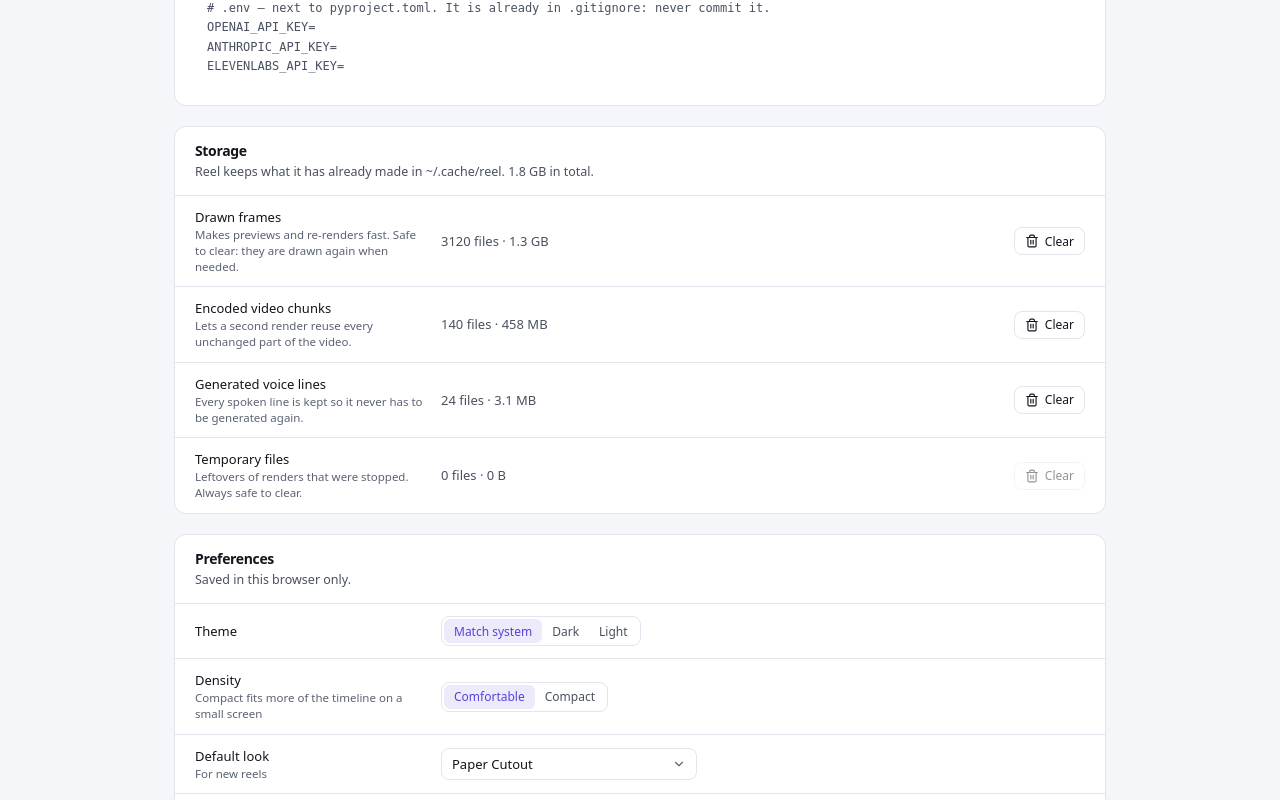
Test case: Health & settings › warns that clearing generated voice lines re-bills an online voice
(page scrolled)
Click the button with aria-label "clear generated voice lines" at (1049, 400), box [1014,386,1085,414]
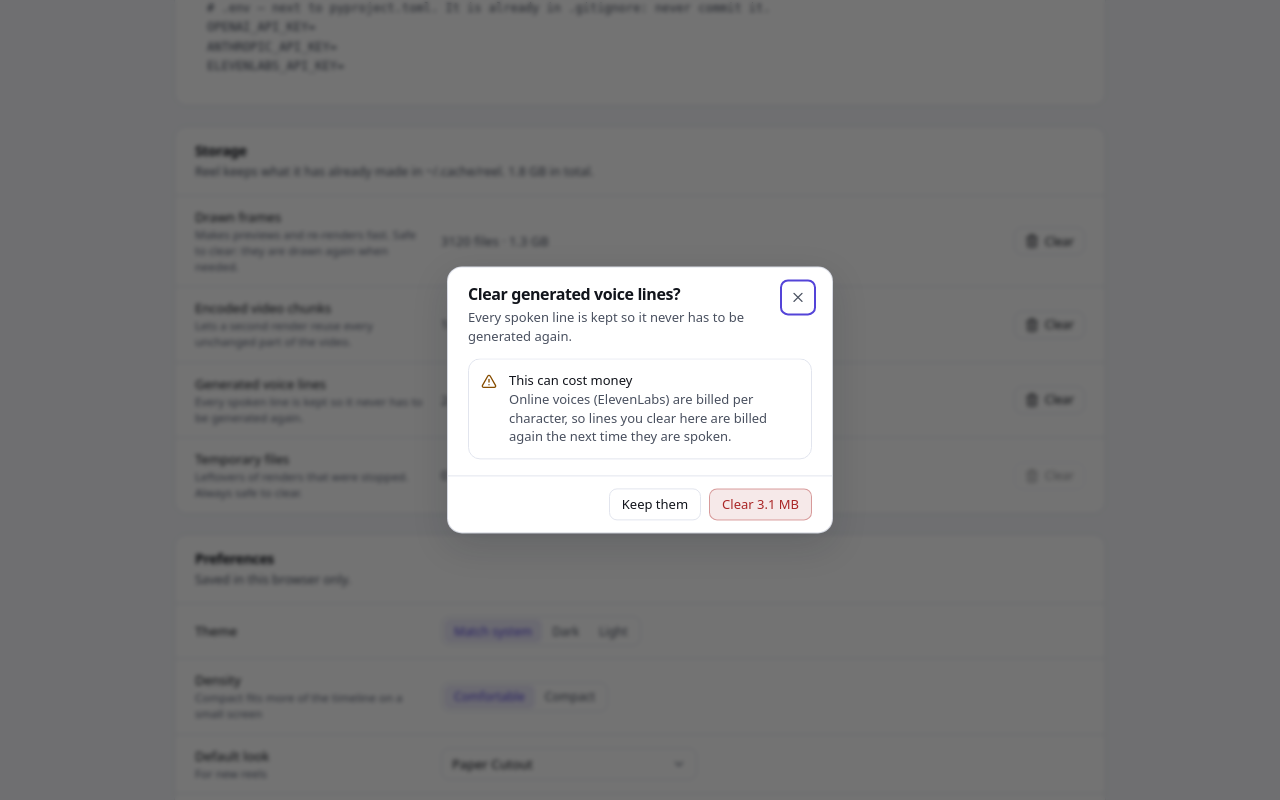
Expected: the text "This can cost money" is shown, [509,371,632,389]
Expected: the text "billed again" is shown, [509,390,767,446]
